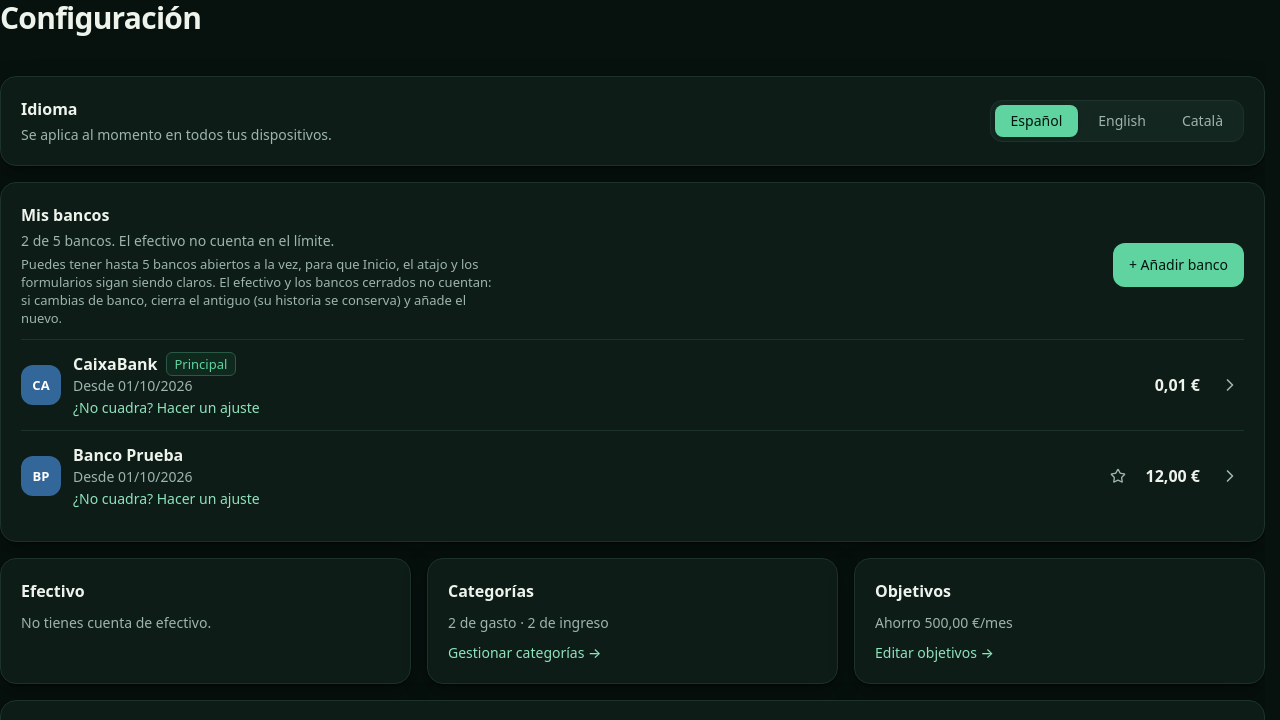
Scenario: Mis bancos › solo se cierra con valor exactamente 0
Click the button named "Gestionar Banco Prueba": (1230, 476) 1212,458 -> 1248,494
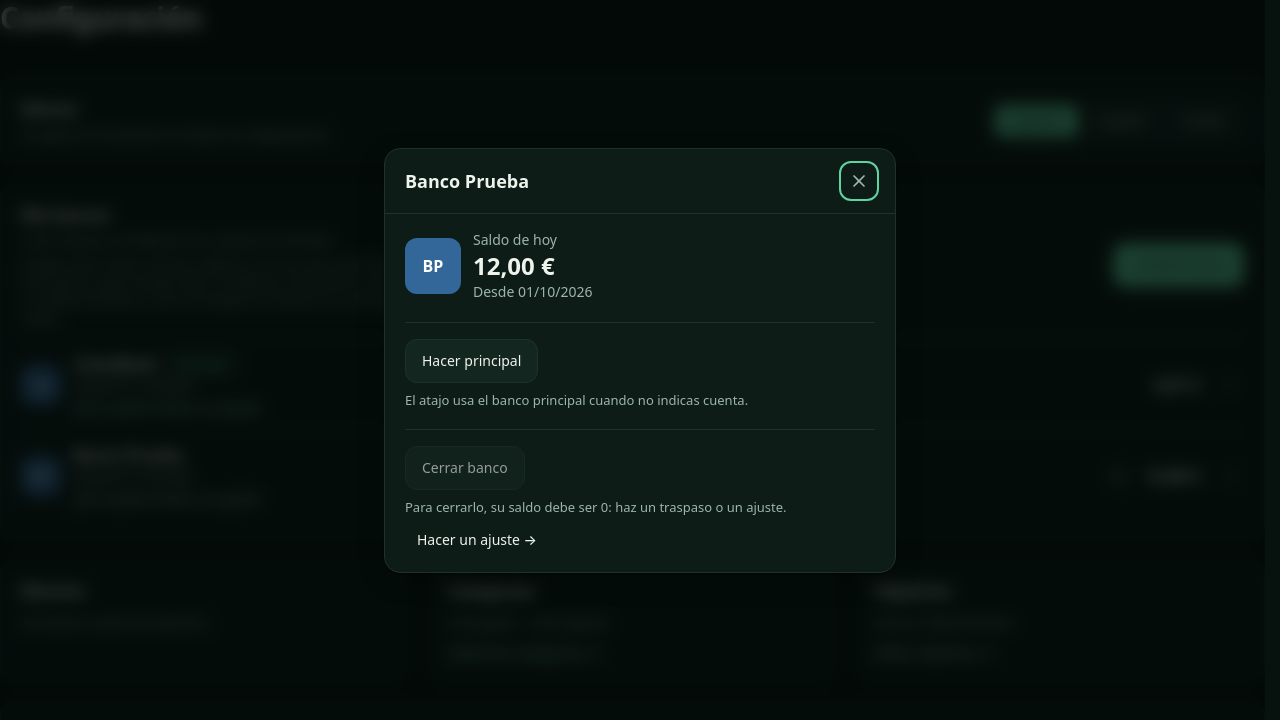
Expected: the button "Cerrar banco" is disabled, 405,446 -> 525,490
Expected: the text "Para cerrarlo, su saldo debe ser 0: haz un traspaso o un ajuste." is shown, 405,498 -> 787,516
